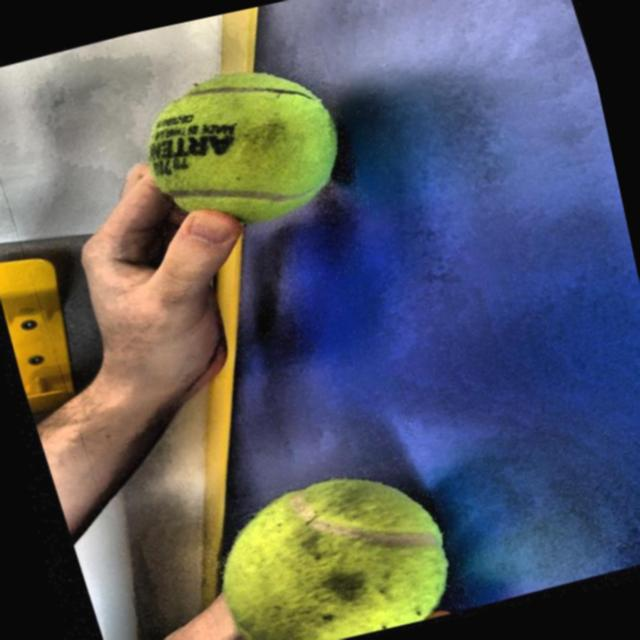tennis-ball: (184, 448, 470, 640), (126, 42, 372, 260)
